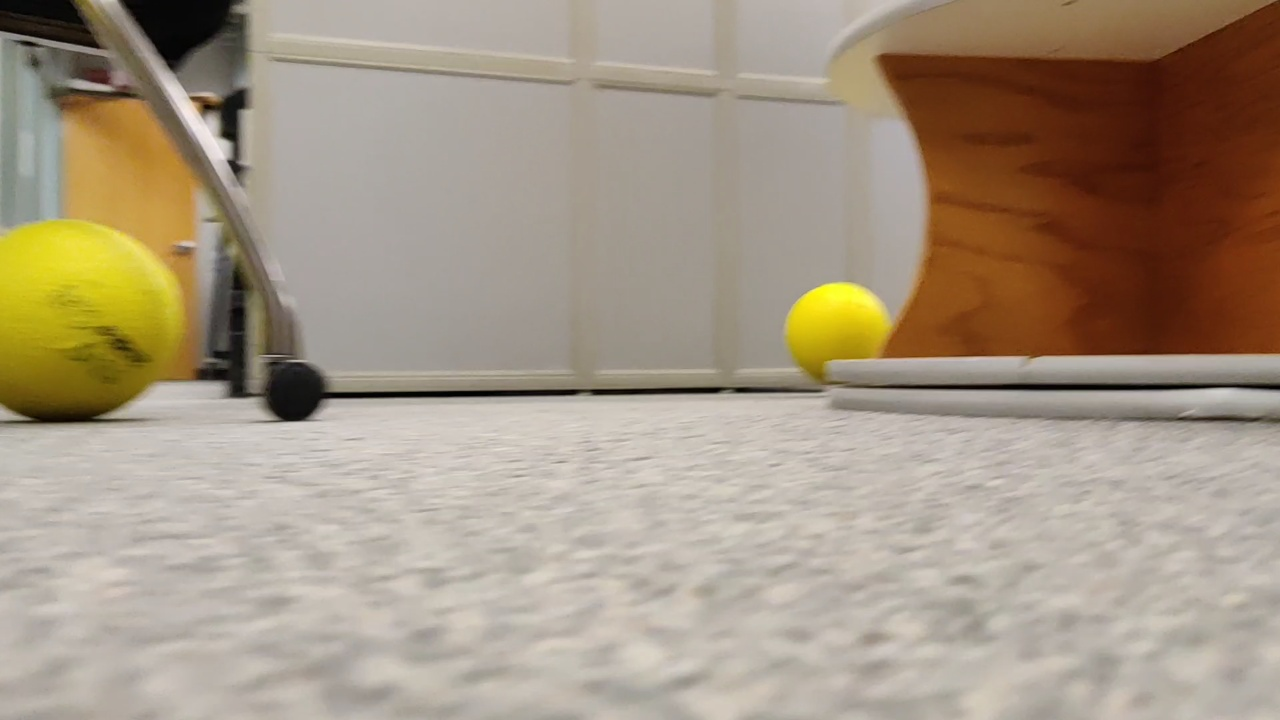Ball: (1, 217, 181, 428), (787, 283, 896, 385)
